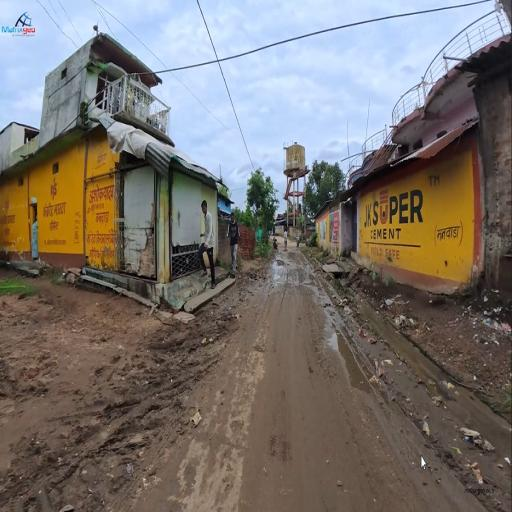drainage_issue: (338, 283, 366, 354)
